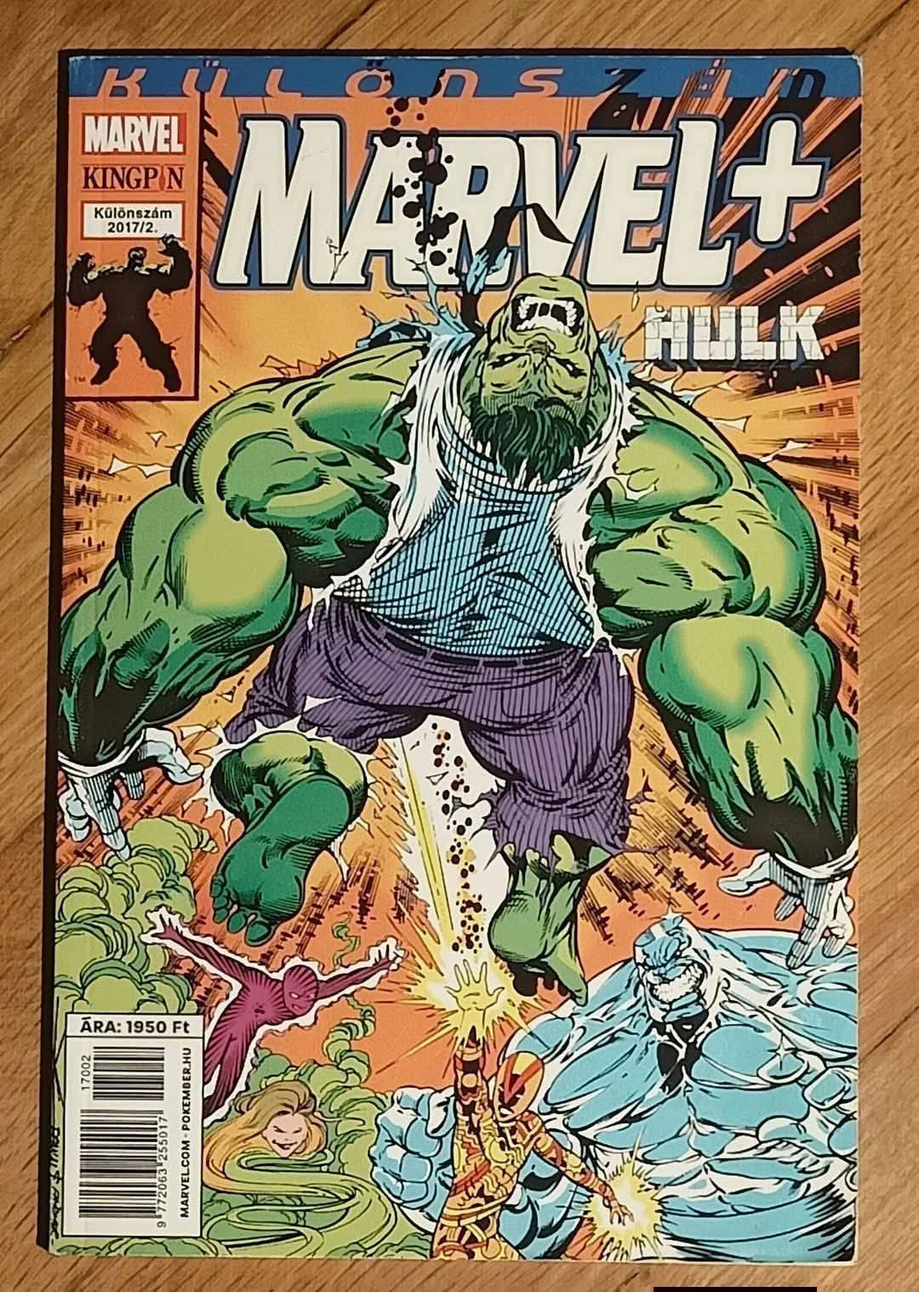comic: (43, 44, 864, 1263)
